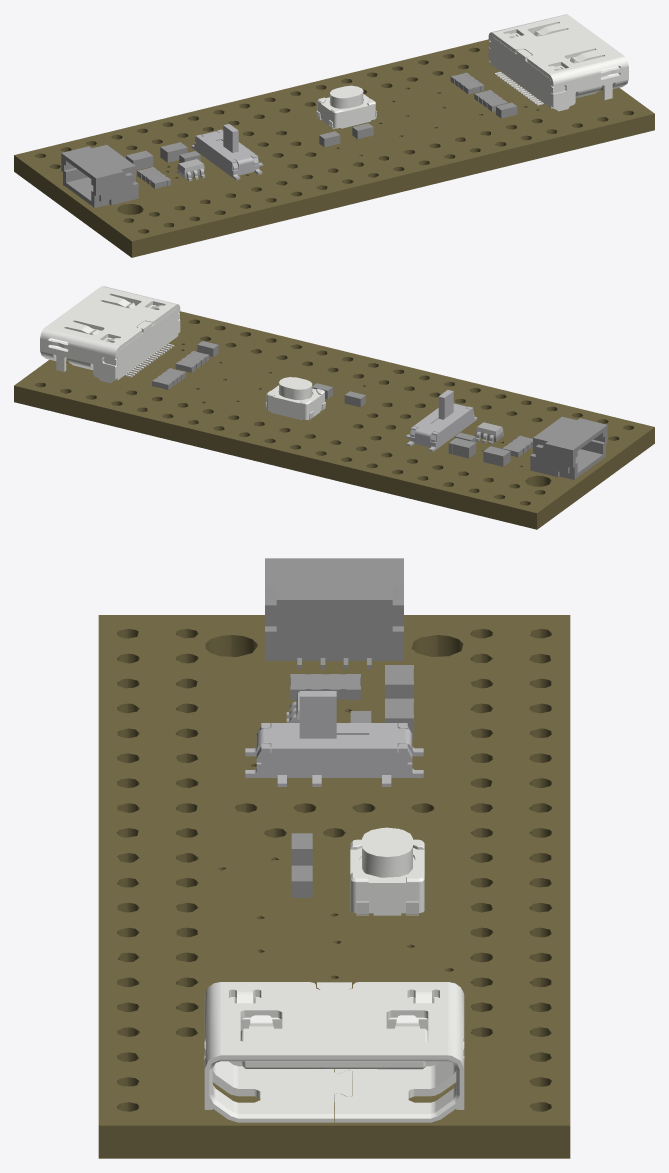
File: ada-6363.glb
3 views of the same model, one above another, from view 1: azimuth 30°, elevation 25°; view 2: azimuth 150°, elevation 25°; view 3: azimuth 270°, elevation 25° (orthographic). The views are drawn at different scales.
Visible parts, largest first — view 1: 0.16666666666666666_0.16666666666666666_0.08333333333333333_, 0.9166666666666666_0.9166666666666666_0.9166666666666666_0.8, 0.3333333333333333_0.3333333333333333_0.3333333333333333_0, 0.5833333333333334_0.5833333333333334_0.5833333333333334_0.8, 0.5_0.5_0.5_0.85; view 2: 0.16666666666666666_0.16666666666666666_0.08333333333333333_, 0.9166666666666666_0.9166666666666666_0.9166666666666666_0.8, 0.3333333333333333_0.3333333333333333_0.3333333333333333_0, 0.5833333333333334_0.5833333333333334_0.5833333333333334_0.8, 0.5_0.5_0.5_0.85; view 3: 0.16666666666666666_0.16666666666666666_0.08333333333333333_, 0.9166666666666666_0.9166666666666666_0.9166666666666666_0.8, 0.3333333333333333_0.3333333333333333_0.3333333333333333_0, 0.5833333333333334_0.5833333333333334_0.5833333333333334_0.8.
Boxes of the visible parts, x1,y1,x2,y2 form: 0.16666666666666666_0.16666666666666666_0.08333333333333333_: (14, 39, 654, 257); 0.9166666666666666_0.9166666666666666_0.9166666666666666_0.8: (316, 14, 628, 128); 0.3333333333333333_0.3333333333333333_0.3333333333333333_0: (61, 72, 517, 207); 0.5833333333333334_0.5833333333333334_0.5833333333333334_0.8: (191, 124, 263, 180); 0.5_0.5_0.5_0.85: (177, 159, 205, 181); 0.16666666666666666_0.16666666666666666_0.08333333333333333_: (14, 311, 654, 529); 0.9166666666666666_0.9166666666666666_0.9166666666666666_0.8: (40, 286, 325, 420); 0.3333333333333333_0.3333333333333333_0.3333333333333333_0: (152, 341, 607, 479); 0.5833333333333334_0.5833333333333334_0.5833333333333334_0.8: (405, 390, 477, 451); 0.5_0.5_0.5_0.85: (476, 422, 503, 444); 0.16666666666666666_0.16666666666666666_0.08333333333333333_: (98, 615, 570, 1158); 0.9166666666666666_0.9166666666666666_0.9166666666666666_0.8: (204, 827, 464, 1122); 0.3333333333333333_0.3333333333333333_0.3333333333333333_0: (265, 558, 413, 897); 0.5833333333333334_0.5833333333333334_0.5833333333333334_0.8: (245, 691, 423, 786).
Size of the model in its own units: 5.21 by 0.497 by 2.03.
